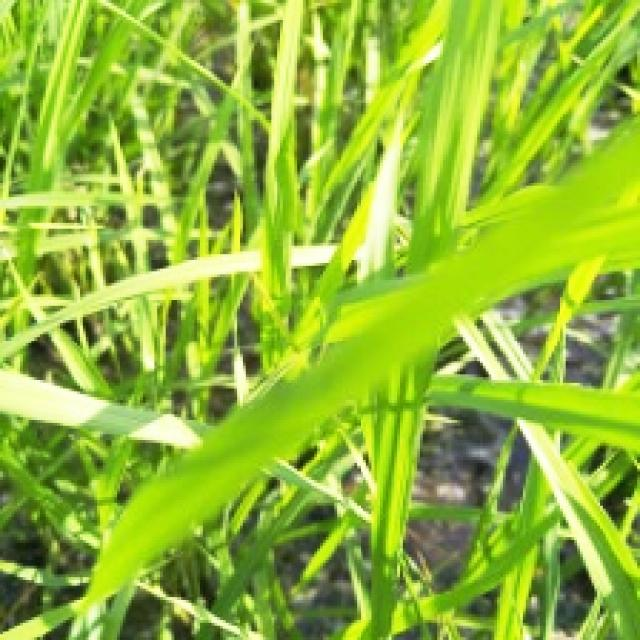health: (85, 132, 640, 605)
